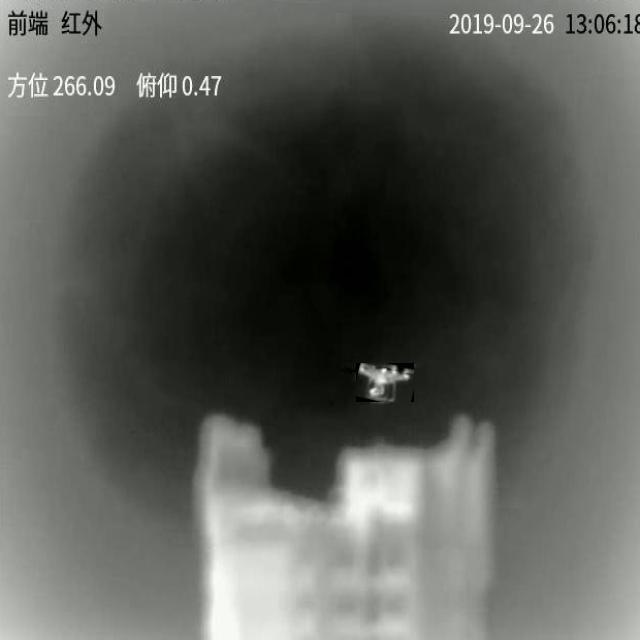drone: (358, 363, 414, 402)
